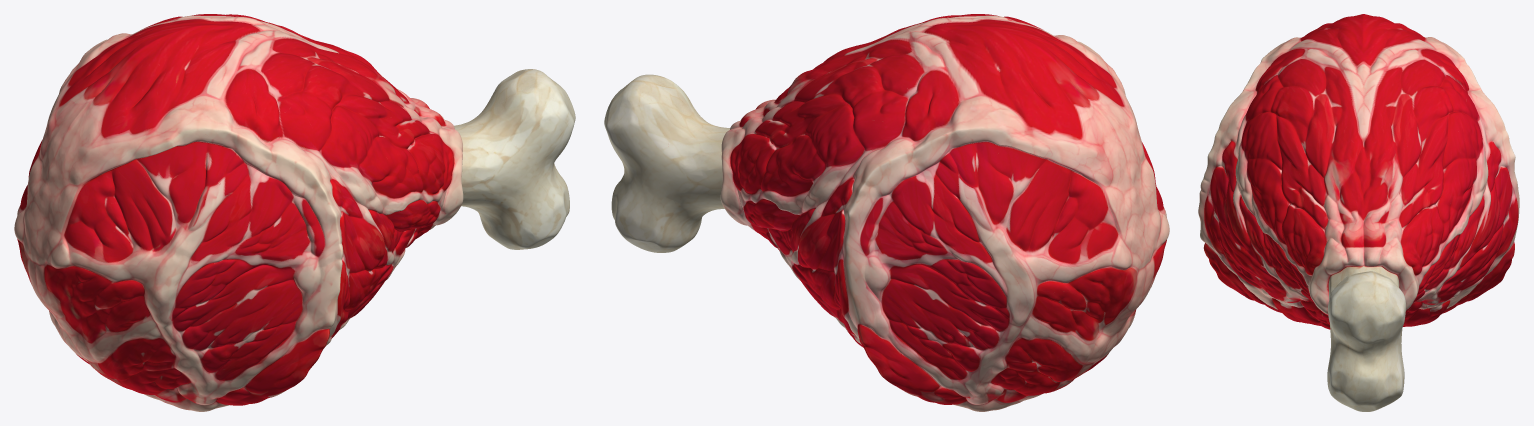
Rendered from Fleisch_roh.glb.
The picture shows the model from 3 angles, left to right: view 1: azimuth 30°, elevation 25°; view 2: azimuth 150°, elevation 25°; view 3: azimuth 270°, elevation 25°; orthographic projection. The views are drawn at different scales.
Bounding box in the file's own units: 1.9 × 1.24 × 1.2.
Materials: 1 (1 with a texture image).
